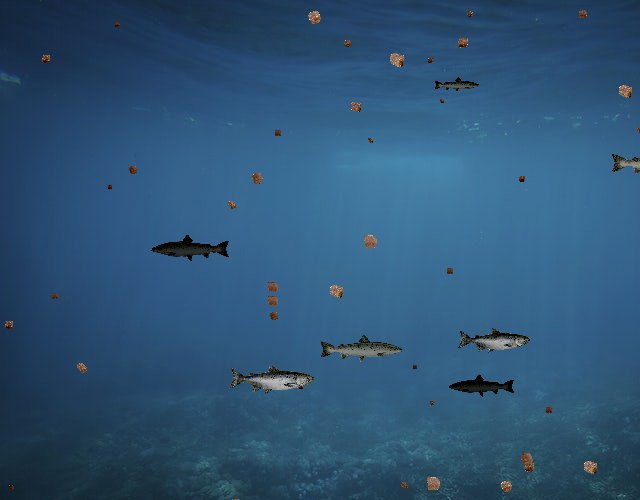Fish: (318, 333, 404, 364), (228, 364, 314, 395), (150, 234, 231, 263), (457, 327, 530, 354), (448, 373, 516, 398), (433, 76, 480, 93)
Pellet: (514, 446, 540, 472), (494, 474, 519, 499), (70, 357, 92, 379), (573, 5, 592, 24), (514, 172, 528, 186), (424, 54, 437, 67), (111, 19, 123, 31)
